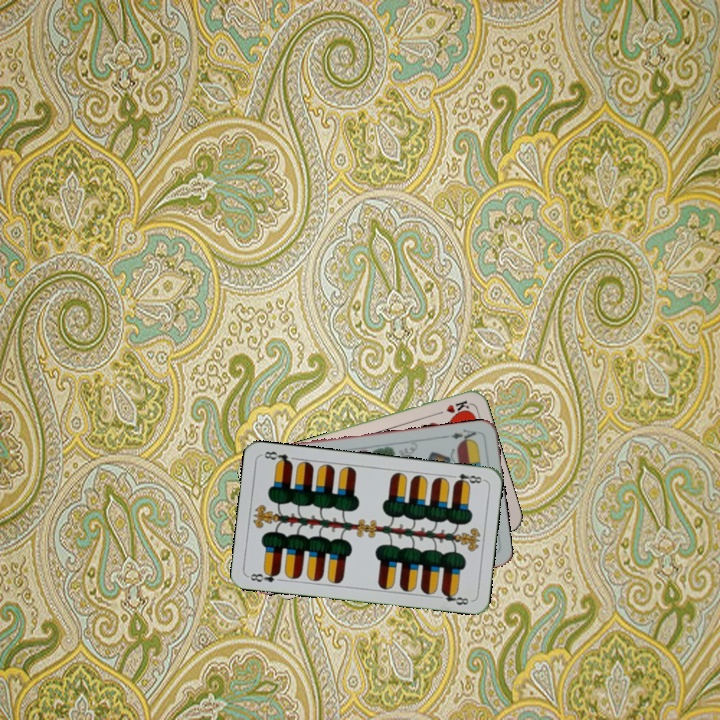E8: (446, 469, 486, 488), (245, 567, 283, 585)
EA: (441, 425, 478, 445)
HK: (432, 397, 472, 418)
